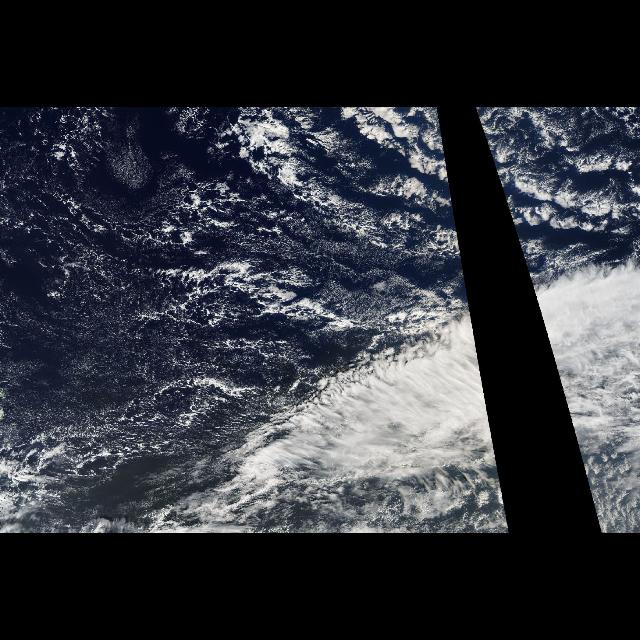Fish: (172, 110, 378, 338)
Gravel: (3, 115, 350, 327), (9, 386, 221, 476)
Sugar: (0, 126, 348, 428)
